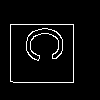C: (25, 25, 73, 63)
